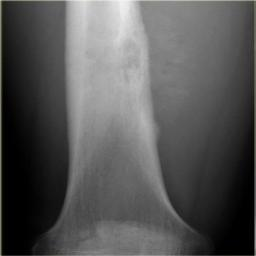cancer: (58, 4, 196, 184)
